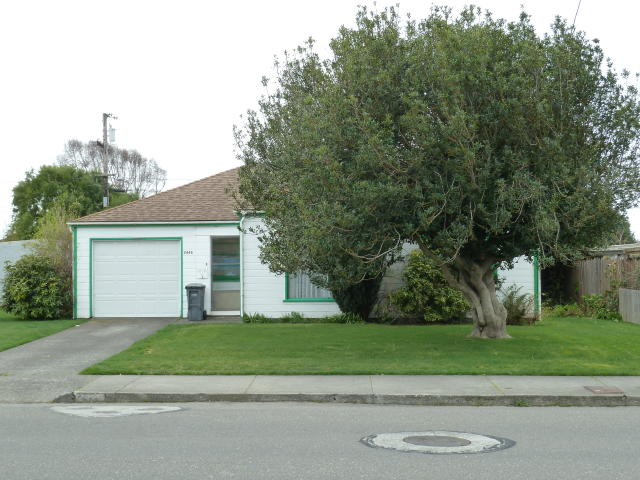tree: (224, 1, 640, 340)
